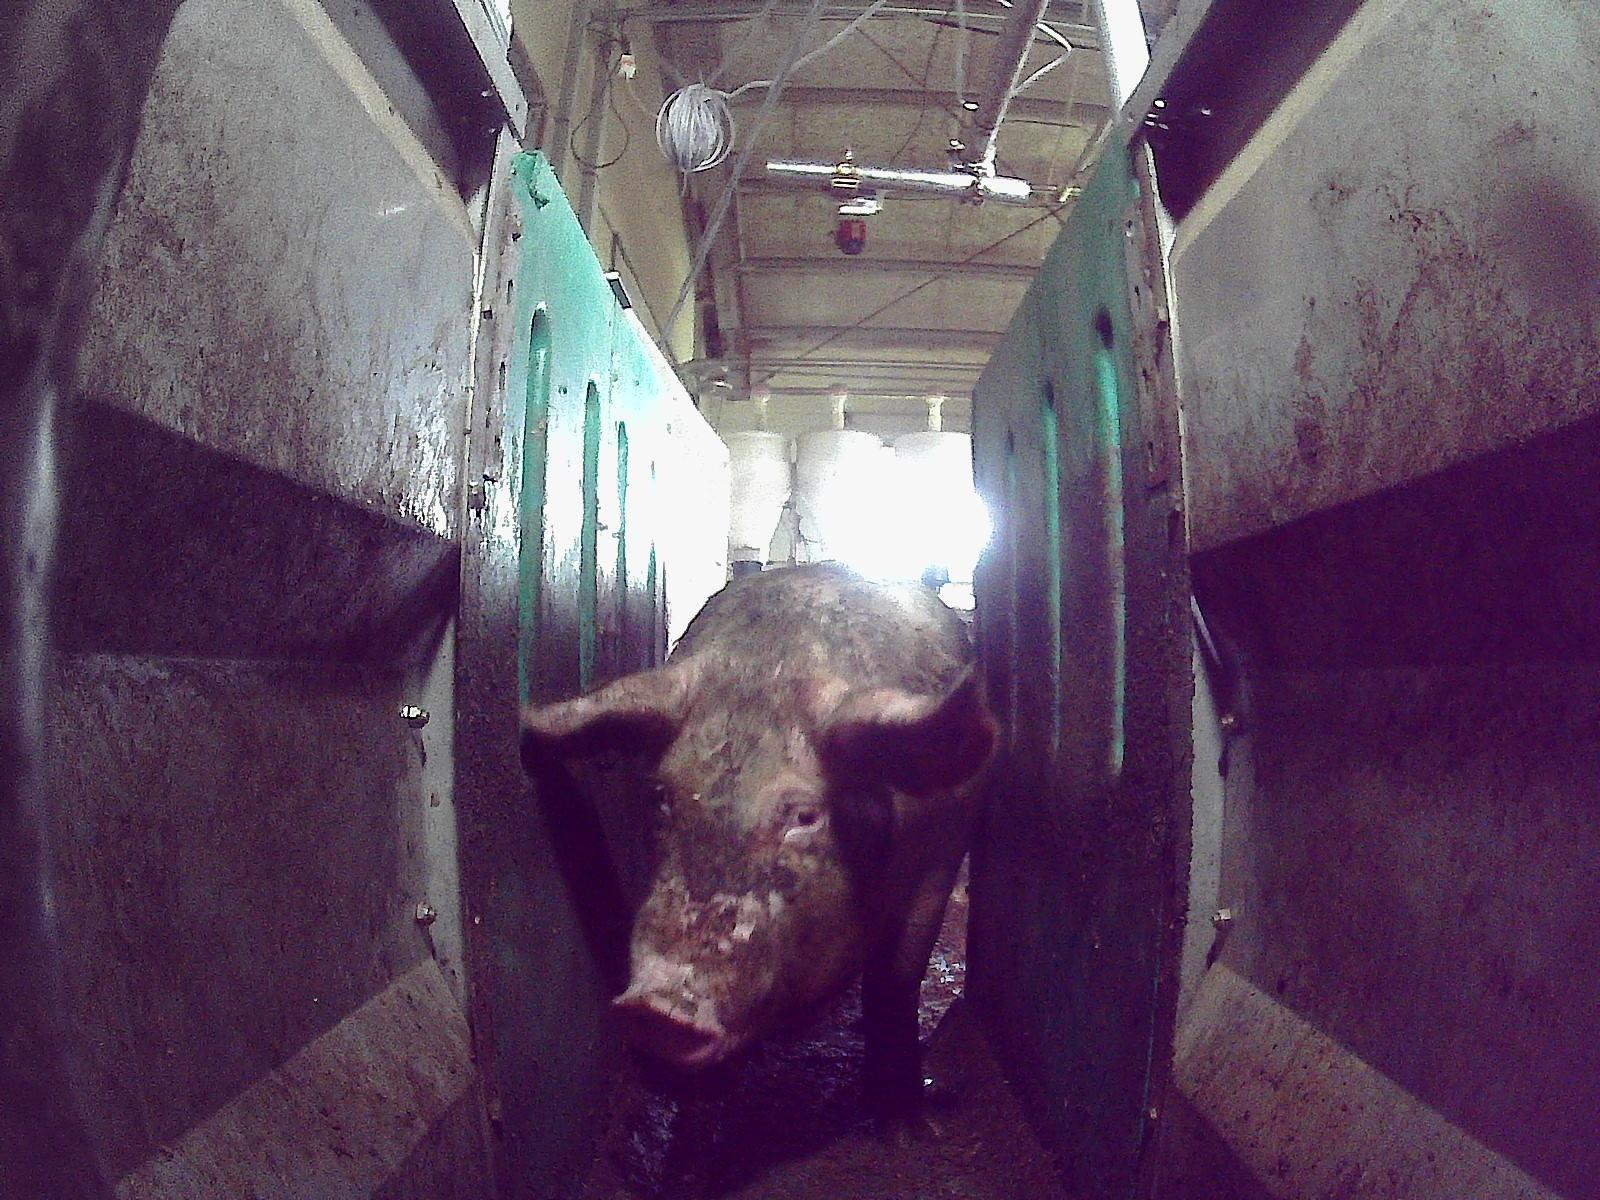Face: (610, 656, 888, 1066)
